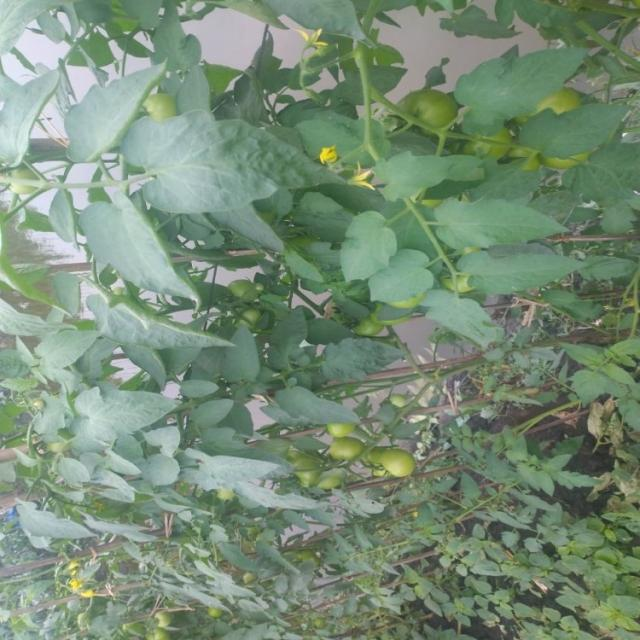tomato: (395, 86, 454, 142), (297, 464, 344, 501), (464, 126, 512, 157), (329, 437, 367, 469), (145, 85, 178, 121), (380, 447, 415, 479), (329, 420, 363, 447), (146, 611, 174, 639)
